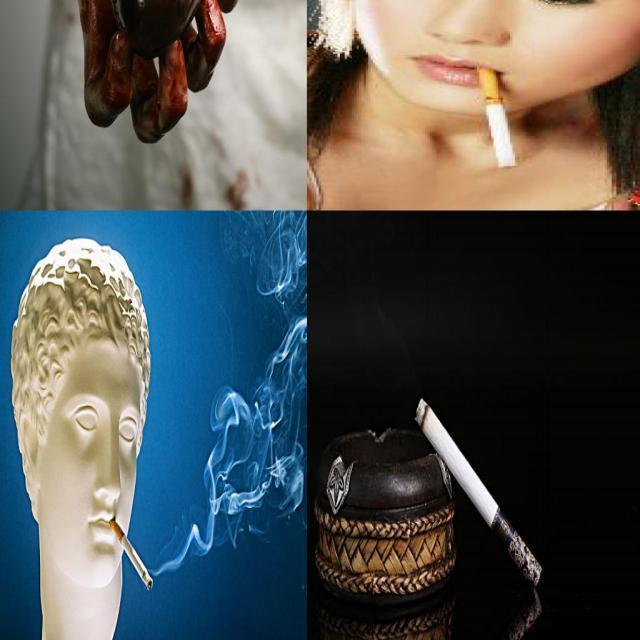rokok: (415, 395, 543, 589), (476, 64, 520, 170), (108, 518, 154, 594)
